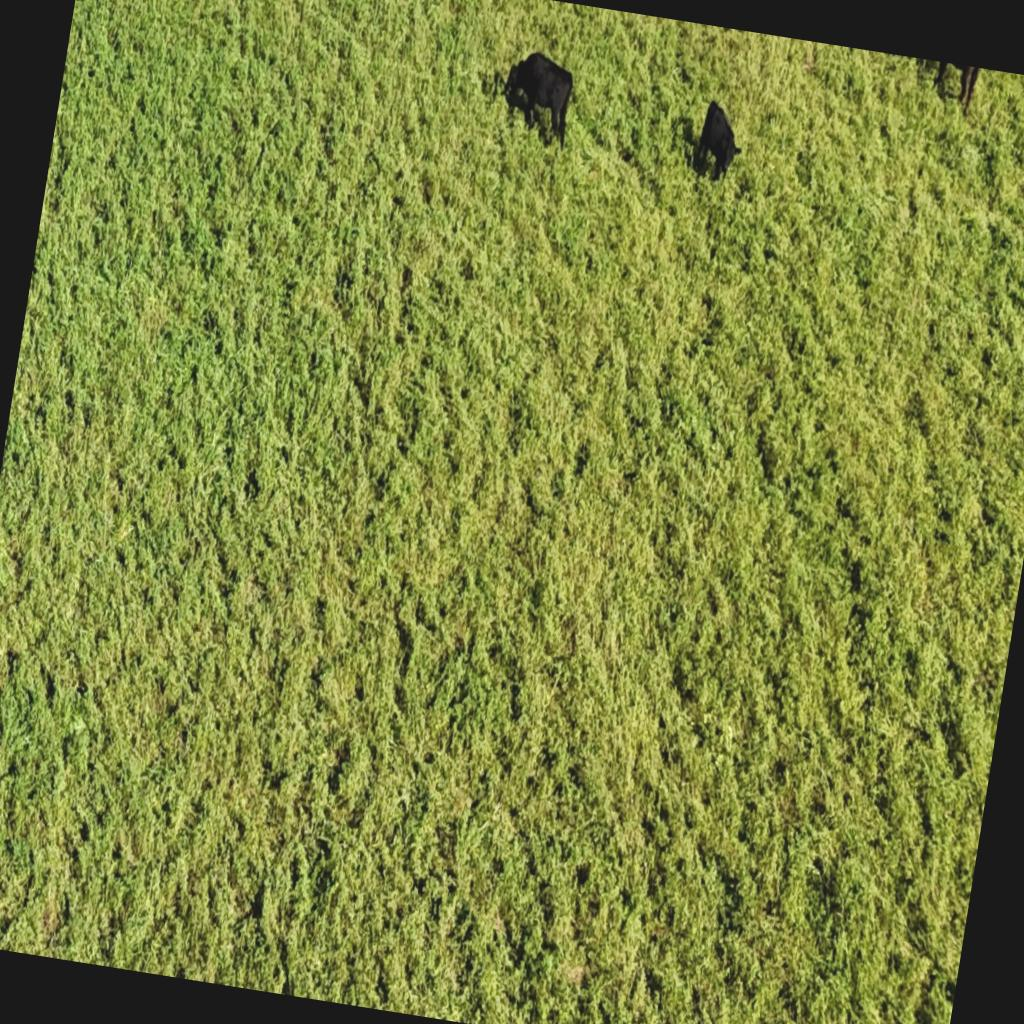cow: (850, 51, 983, 126), (494, 42, 584, 152), (686, 93, 750, 189)
